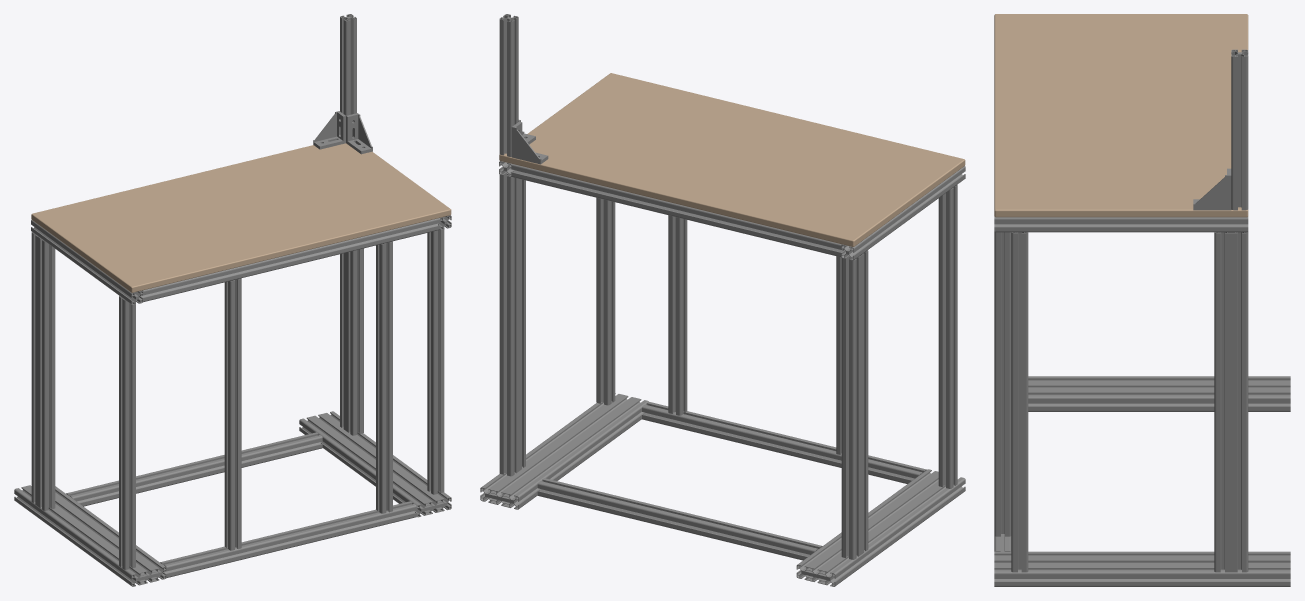
The model's file is polishdesk.dae.
The picture shows the model from 3 angles, left to right: view 1: azimuth 30°, elevation 25°; view 2: azimuth 150°, elevation 25°; view 3: azimuth 270°, elevation 25°; orthographic projection. The views are drawn at different scales.
Visible parts, largest first — view 1: ShapeIndexedFaceSet, ShapeIndexedFaceSet_006, ShapeIndexedFaceSet_014, ShapeIndexedFaceSet_016, ShapeIndexedFaceSet_008, ShapeIndexedFaceSet_013, ShapeIndexedFaceSet_015, ShapeIndexedFaceSet_007, ShapeIndexedFaceSet_009, ShapeIndexedFaceSet_005, ShapeIndexedFaceSet_010, ShapeIndexedFaceSet_003 (+4 smaller); view 2: ShapeIndexedFaceSet, ShapeIndexedFaceSet_006, ShapeIndexedFaceSet_005, ShapeIndexedFaceSet_007, ShapeIndexedFaceSet_008, ShapeIndexedFaceSet_015, ShapeIndexedFaceSet_010, ShapeIndexedFaceSet_009, ShapeIndexedFaceSet_004, ShapeIndexedFaceSet_016, ShapeIndexedFaceSet_013, ShapeIndexedFaceSet_011 (+3 smaller); view 3: ShapeIndexedFaceSet, ShapeIndexedFaceSet_005, ShapeIndexedFaceSet_007, ShapeIndexedFaceSet_008, ShapeIndexedFaceSet_016, ShapeIndexedFaceSet_013, ShapeIndexedFaceSet_001, ShapeIndexedFaceSet_011, ShapeIndexedFaceSet_012.
Part boxes in pixels (x1,y1,x2,y2): ShapeIndexedFaceSet: (31, 143, 451, 292); ShapeIndexedFaceSet_006: (31, 232, 55, 510); ShapeIndexedFaceSet_014: (224, 278, 241, 550); ShapeIndexedFaceSet_016: (427, 226, 444, 494); ShapeIndexedFaceSet_008: (14, 485, 166, 586); ShapeIndexedFaceSet_013: (376, 241, 392, 513); ShapeIndexedFaceSet_015: (119, 295, 135, 569); ShapeIndexedFaceSet_007: (299, 411, 451, 517); ShapeIndexedFaceSet_009: (160, 501, 416, 577); ShapeIndexedFaceSet_005: (340, 248, 363, 435); ShapeIndexedFaceSet_010: (66, 432, 322, 506); ShapeIndexedFaceSet_003: (140, 218, 440, 301); ShapeIndexedFaceSet: (499, 73, 965, 246); ShapeIndexedFaceSet_006: (841, 250, 868, 559); ShapeIndexedFaceSet_005: (499, 173, 525, 476); ShapeIndexedFaceSet_007: (480, 393, 648, 509); ShapeIndexedFaceSet_008: (796, 469, 965, 586); ShapeIndexedFaceSet_015: (938, 184, 957, 488); ShapeIndexedFaceSet_010: (537, 478, 822, 560); ShapeIndexedFaceSet_009: (642, 401, 926, 483); ShapeIndexedFaceSet_004: (511, 164, 844, 257); ShapeIndexedFaceSet_016: (596, 197, 615, 405); ShapeIndexedFaceSet_013: (668, 215, 687, 415); ShapeIndexedFaceSet_011: (499, 14, 518, 156); ShapeIndexedFaceSet: (994, 14, 1248, 217); ShapeIndexedFaceSet_005: (1214, 232, 1248, 572); ShapeIndexedFaceSet_007: (994, 551, 1290, 586); ShapeIndexedFaceSet_008: (1028, 376, 1290, 411); ShapeIndexedFaceSet_016: (1011, 232, 1028, 572); ShapeIndexedFaceSet_013: (994, 232, 1011, 536); ShapeIndexedFaceSet_001: (994, 216, 1248, 232); ShapeIndexedFaceSet_011: (1231, 49, 1248, 210); ShapeIndexedFaceSet_012: (1193, 168, 1231, 210).
Bounding box in the file's own units: 1.1 × 0.7 × 1.39.
